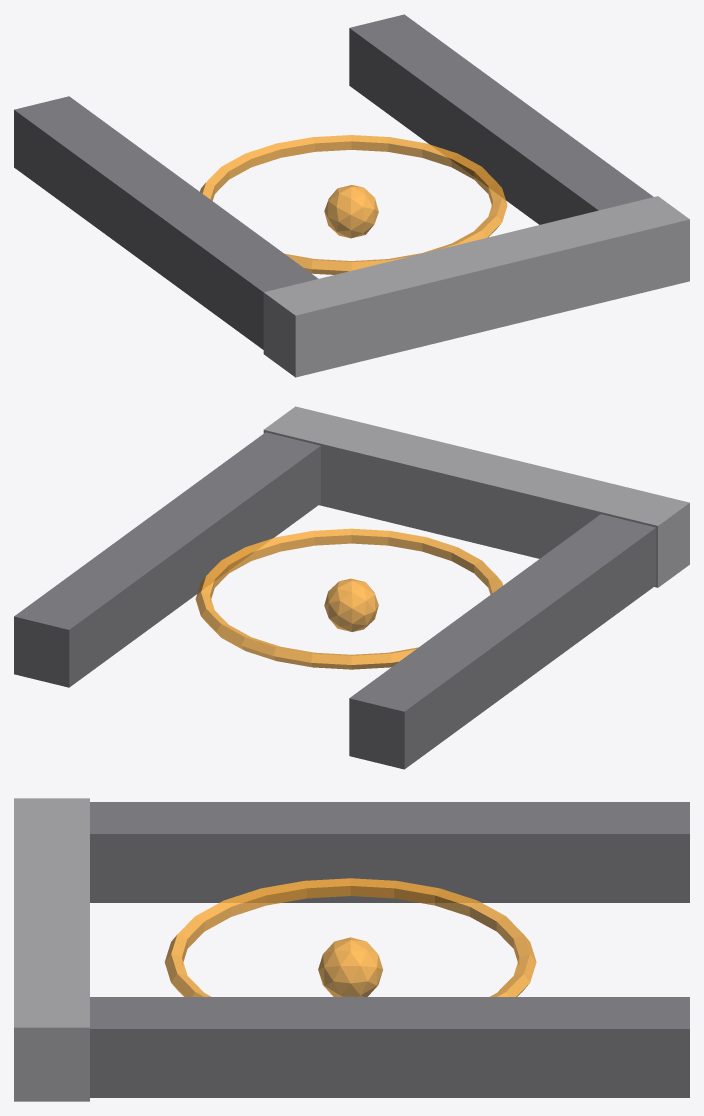
The model's file is order_epochalypse_relic_gate.glb.
The picture shows the model from 3 angles, top to bottom: view 1: azimuth 30°, elevation 25°; view 2: azimuth 150°, elevation 25°; view 3: azimuth 270°, elevation 25°; orthographic projection. The views are drawn at different scales.
Parts seen in each view (by area): view 1: lintel, pillar_left, pillar_right, energy_ring, core_light; view 2: pillar_left, pillar_right, lintel, energy_ring, core_light; view 3: pillar_left, pillar_right, lintel, energy_ring, core_light.
Part boxes in pixels (bbox=[...]): lintel: bbox=[263, 196, 689, 377]; pillar_left: bbox=[14, 96, 318, 349]; pillar_right: bbox=[349, 14, 653, 224]; energy_ring: bbox=[200, 135, 507, 274]; core_light: bbox=[324, 185, 378, 238]; pillar_left: bbox=[349, 514, 655, 769]; pillar_right: bbox=[14, 432, 320, 687]; lintel: bbox=[263, 406, 689, 587]; energy_ring: bbox=[195, 528, 503, 669]; core_light: bbox=[324, 578, 378, 631]; pillar_left: bbox=[90, 802, 689, 902]; pillar_right: bbox=[90, 997, 689, 1097]; lintel: bbox=[14, 798, 89, 1101]; energy_ring: bbox=[164, 878, 536, 996]; core_light: bbox=[318, 937, 382, 996].
Size of the model in its own units: 2 by 0.35 by 2.49.
